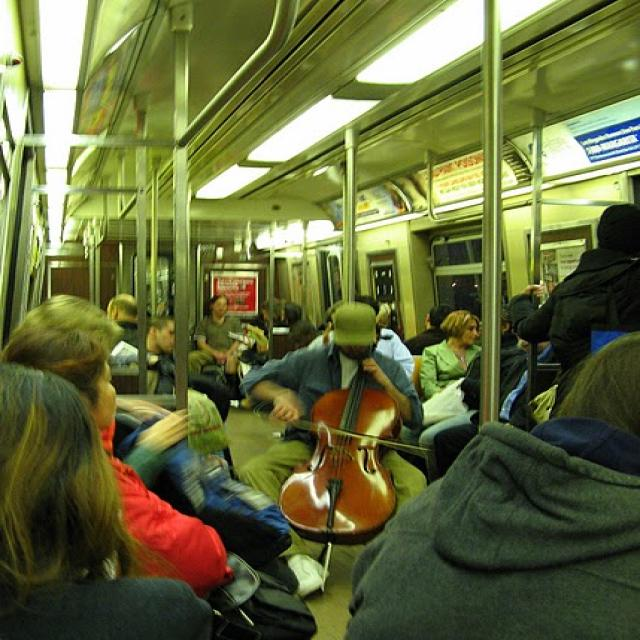cello: (279, 302, 402, 544)
